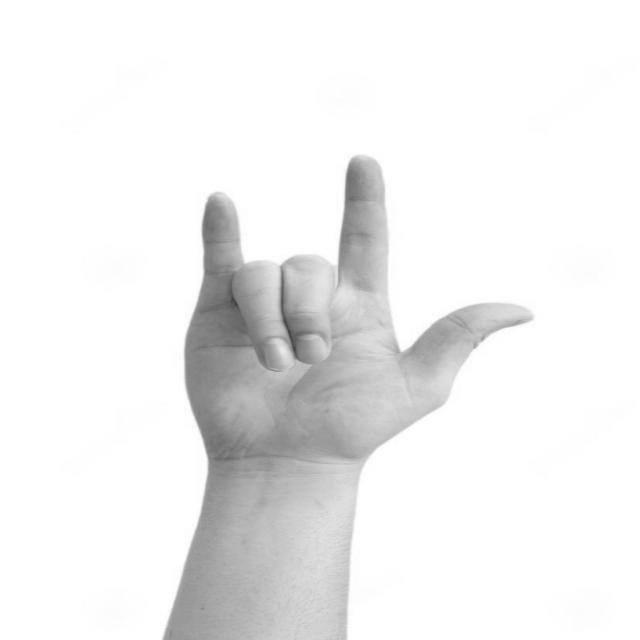i love you: (172, 145, 547, 486)
